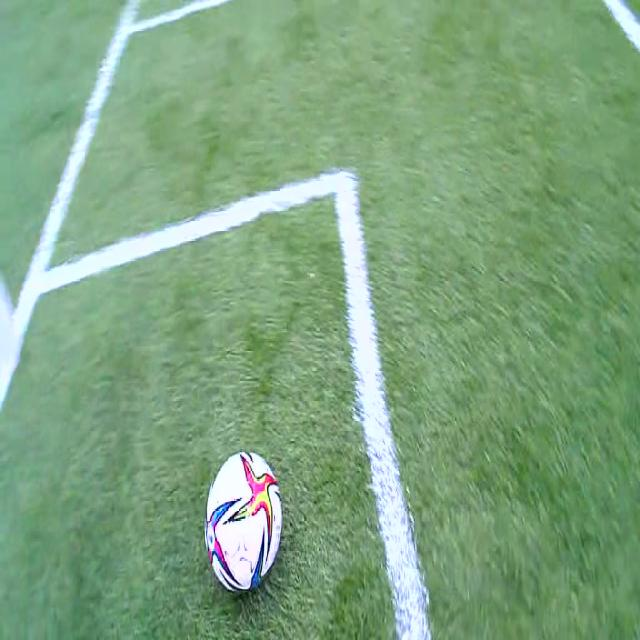ball: (204, 450, 282, 594)
